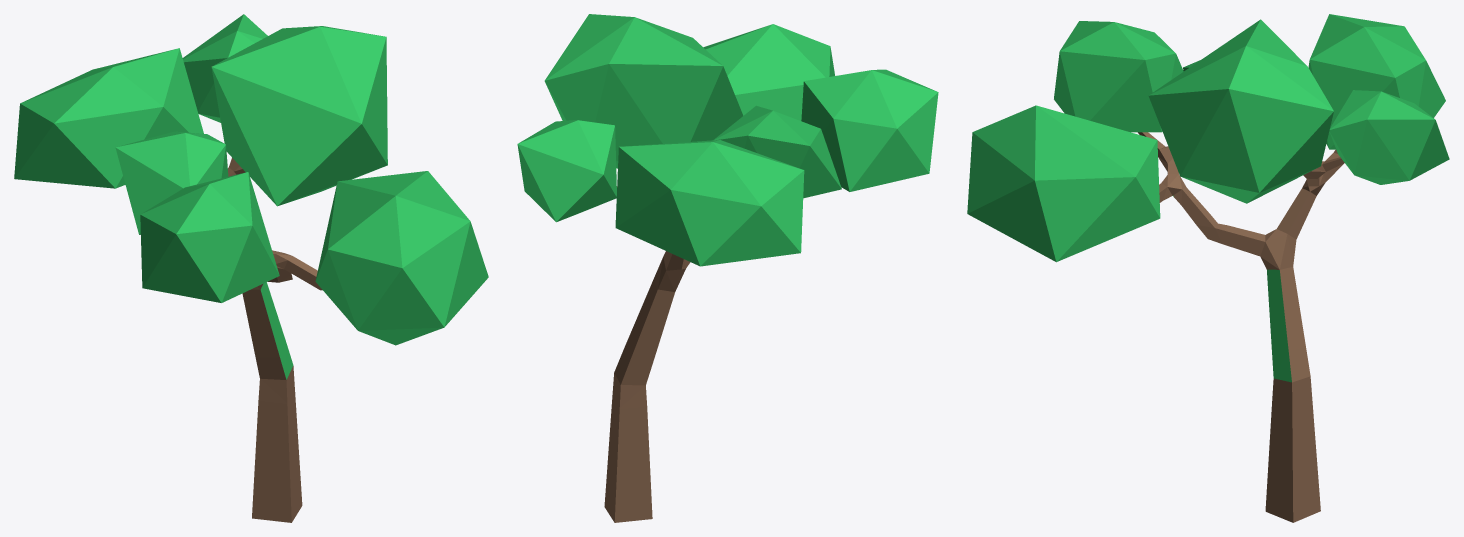
The model's file is big_tree.obj.
3 renders of one model, left to right at view 1: azimuth 30°, elevation 25°; view 2: azimuth 150°, elevation 25°; view 3: azimuth 270°, elevation 25°, orthographic. The views are drawn at different scales.
Visible parts, largest first — view 1: Icosphere; view 2: Icosphere; view 3: Icosphere.
Boxes of the visible parts, x1,y1,x2,y2 form: Icosphere: (14, 14, 488, 522); Icosphere: (517, 14, 938, 522); Icosphere: (967, 14, 1449, 522).
Bounding box in the file's own units: 4.37 × 6.67 × 6.15.
